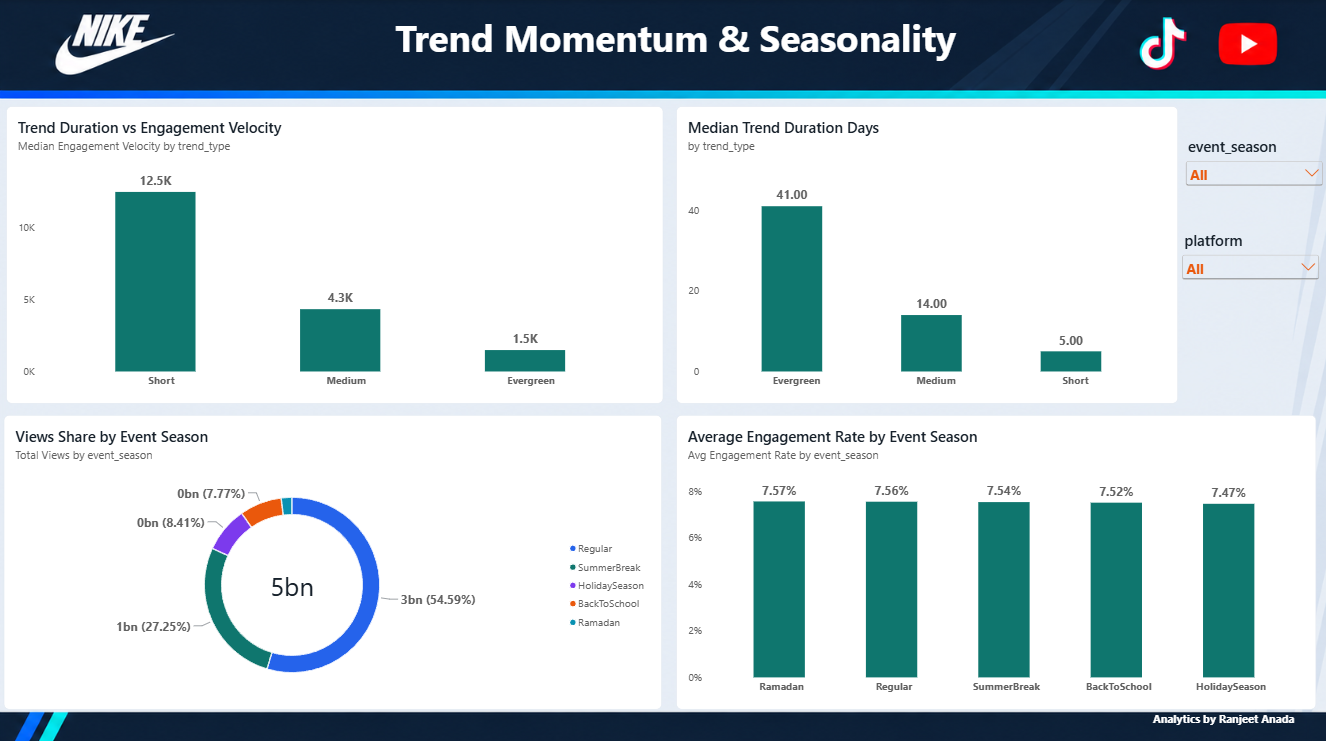

The page's visual inventory and layout, read from the dashboard file:
{"tool":"powerbi","page":{"name":"Trend & Seasonality","canvas":[1920,1080],"ordinal":4},"visuals":[{"type":"slicer","fields":{"Values":["Nike_Videos.platform"]},"box":[1706.4,333.4,208,76.2],"z":0},{"type":"slicer","fields":{"Values":["Nike_Videos.event_season"]},"box":[1712.5,197.6,208,76],"z":1000},{"type":"clusteredColumnChart","title":"Trend Duration vs Engagement Velocity","fields":{"Category":["Nike_Videos.trend_type"],"Y":["Nike_Measures.Median Engagement Velocity"]},"box":[8.2,154.4,950.9,430.2],"z":2000},{"type":"donutChart","title":"Views Share by Event Season","fields":{"Category":["Nike_Videos.event_season"],"Y":["Nike_Measures.Total Views"]},"box":[6.2,601,953,426.1],"z":3000},{"type":"clusteredColumnChart","fields":{"Category":["Nike_Videos.trend_type"],"Y":["Nike_Measures.Median Trend Duration Days"]},"box":[979.8,154.4,726.6,430.2],"z":4000},{"type":"clusteredColumnChart","title":"Average Engagement Rate by Event Season","fields":{"Category":["Nike_Videos.event_season"],"Y":["Nike_Measures.Avg Engagement Rate"]},"box":[979.8,601,926.2,426.1],"z":5000},{"type":"textbox","box":[500.2,18.5,957.1,113.2],"z":5001},{"type":"textbox","box":[1644.6,1029.2,253.2,32.9],"z":5002}]}

Visuals, with their boxes in screenshot pixels (x1, y1, x2, y2), scaled from the page's 1920x1080 canvas onto the 1326x741 screenshot:
slicer - Nike_Videos.platform: bbox(1178, 229, 1322, 281)
slicer - Nike_Videos.event_season: bbox(1183, 136, 1325, 188)
"Trend Duration vs Engagement Velocity" clusteredColumnChart: bbox(6, 106, 662, 401)
"Views Share by Event Season" donutChart: bbox(4, 412, 662, 705)
clusteredColumnChart - Nike_Videos.trend_type x Nike_Measures.Median Trend Duration Days: bbox(677, 106, 1178, 401)
"Average Engagement Rate by Event Season" clusteredColumnChart: bbox(677, 412, 1316, 705)
textbox: bbox(345, 13, 1006, 90)
textbox: bbox(1136, 706, 1311, 729)
